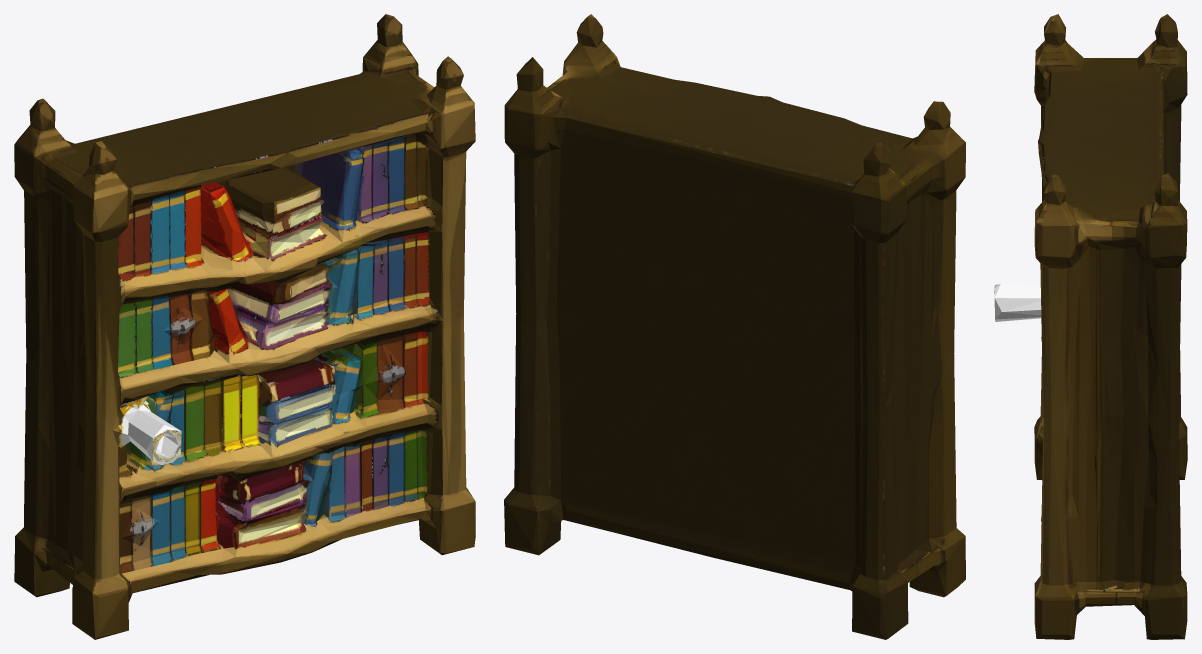
Rendered from tut_bookshelf.glb.
3 views of the same model, side by side, from view 1: azimuth 30°, elevation 25°; view 2: azimuth 150°, elevation 25°; view 3: azimuth 270°, elevation 25° (orthographic). The views are drawn at different scales.
Visible parts, largest first — view 1: tut_bookshelf; view 2: tut_bookshelf; view 3: tut_bookshelf.
Boxes of the visible parts, <box> form: tut_bookshelf: <box>14,14,475,639</box>; tut_bookshelf: <box>504,14,965,639</box>; tut_bookshelf: <box>994,14,1187,639</box>.
Bounding box in the file's own units: 1.73 × 2.1 × 0.7985.
Materials: 1 (1 with a texture image).
